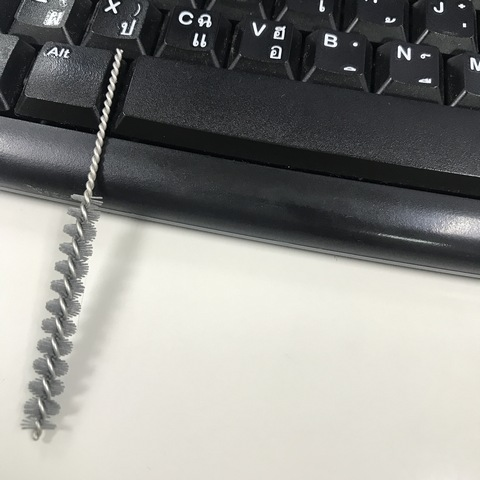Twist Brush-A: (19, 48, 126, 444)
